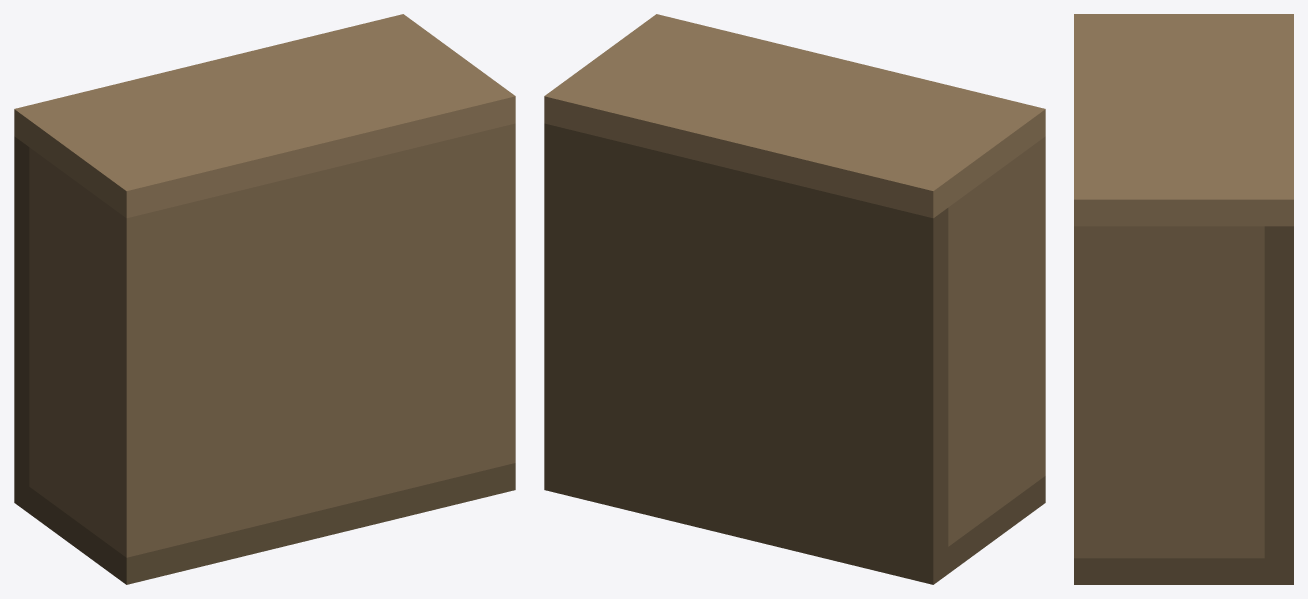
The model's file is expositor_armas_roble_grande_01.glb.
3 views of the same model, side by side, from view 1: azimuth 30°, elevation 25°; view 2: azimuth 150°, elevation 25°; view 3: azimuth 270°, elevation 25° (orthographic). The views are drawn at different scales.
Visible parts, largest first — view 1: expositor_armas_roble_grande; view 2: expositor_armas_roble_grande; view 3: expositor_armas_roble_grande.
Part boxes in pixels (x1,y1,x2,y2): expositor_armas_roble_grande: [14, 14, 515, 584]; expositor_armas_roble_grande: [544, 14, 1045, 584]; expositor_armas_roble_grande: [1074, 14, 1293, 584].
Bounding box in the file's own units: 2 × 1.93 × 1.
